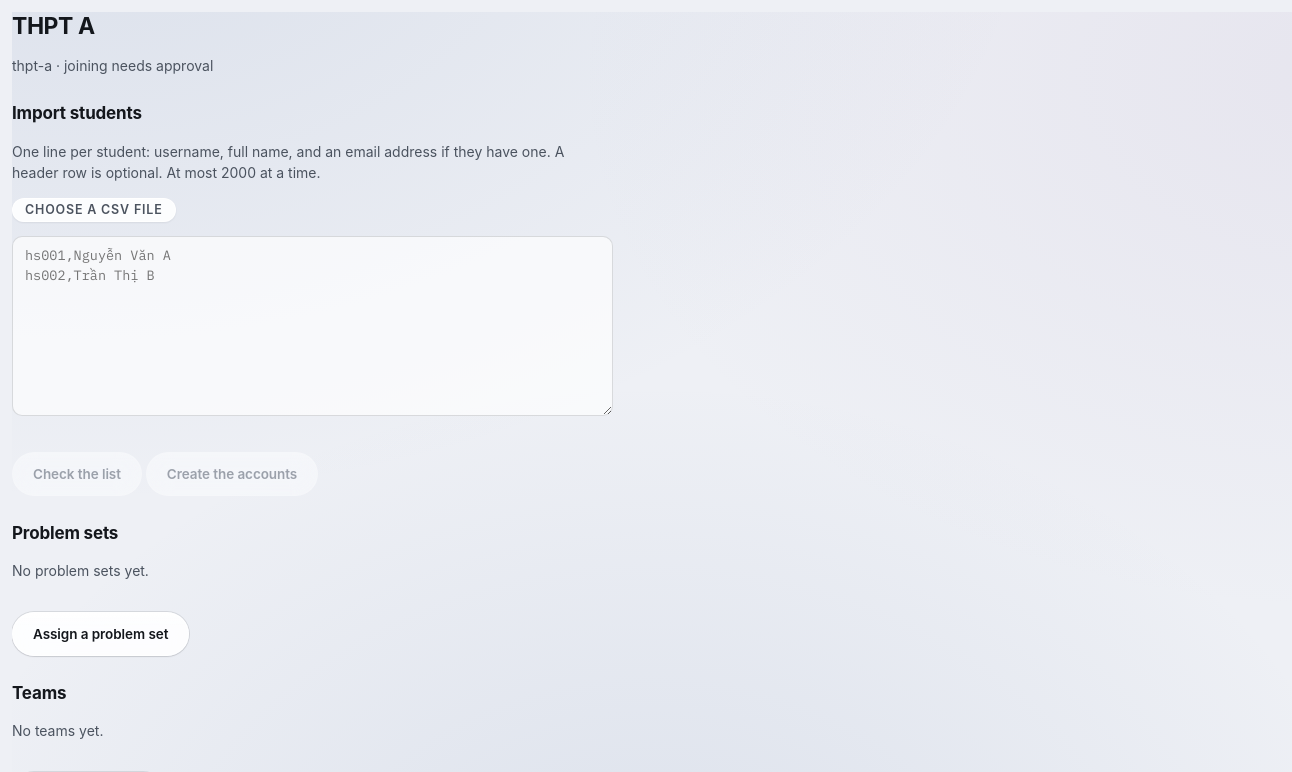
Test: the roster import panel › checks before it creates, and cannot create a list that was never checked
Expected: the heading "Import students" is shown, left=12, top=103, right=142, bottom=123
Expected: the button "Create the accounts" is disabled, left=146, top=452, right=318, bottom=496
Type "hs001,A" into the text box named "Student list" at (312, 326), box left=12, top=236, right=613, bottom=416
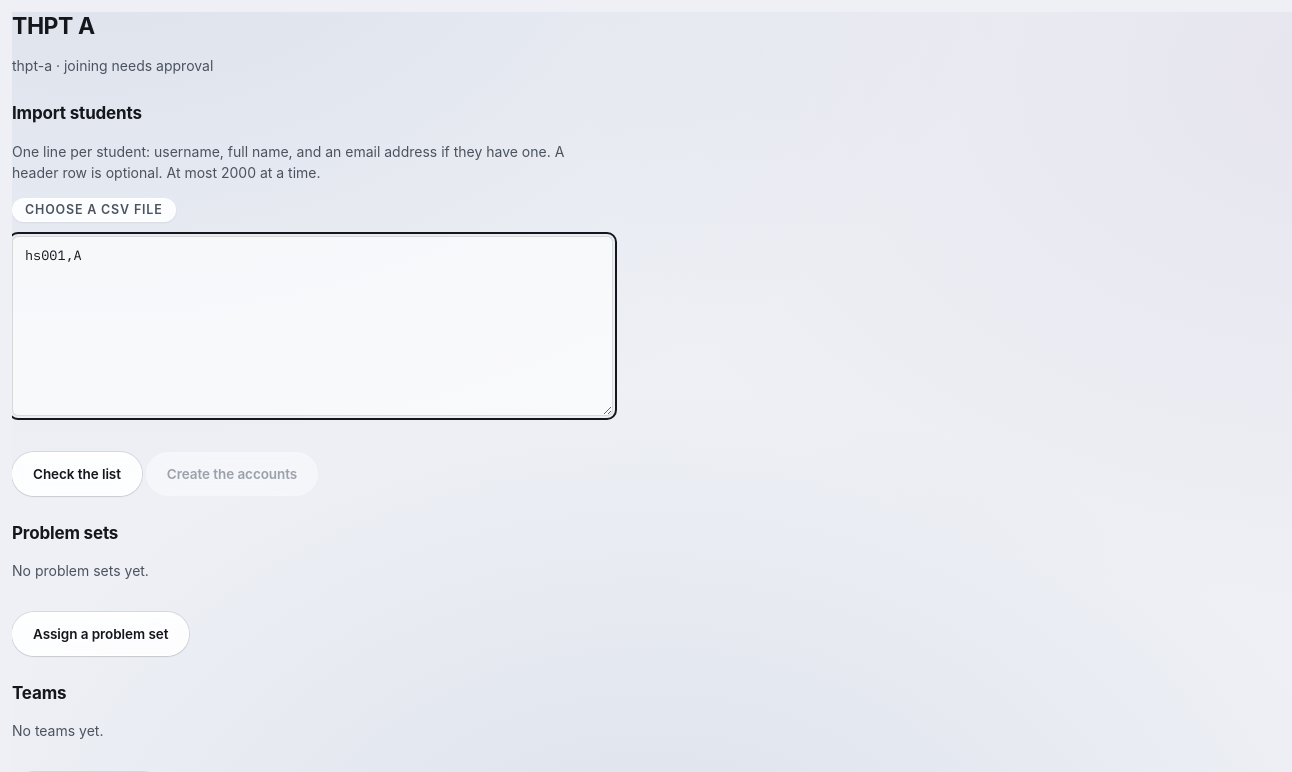
Click the button "Check the list" at (77, 474), box left=12, top=452, right=142, bottom=496
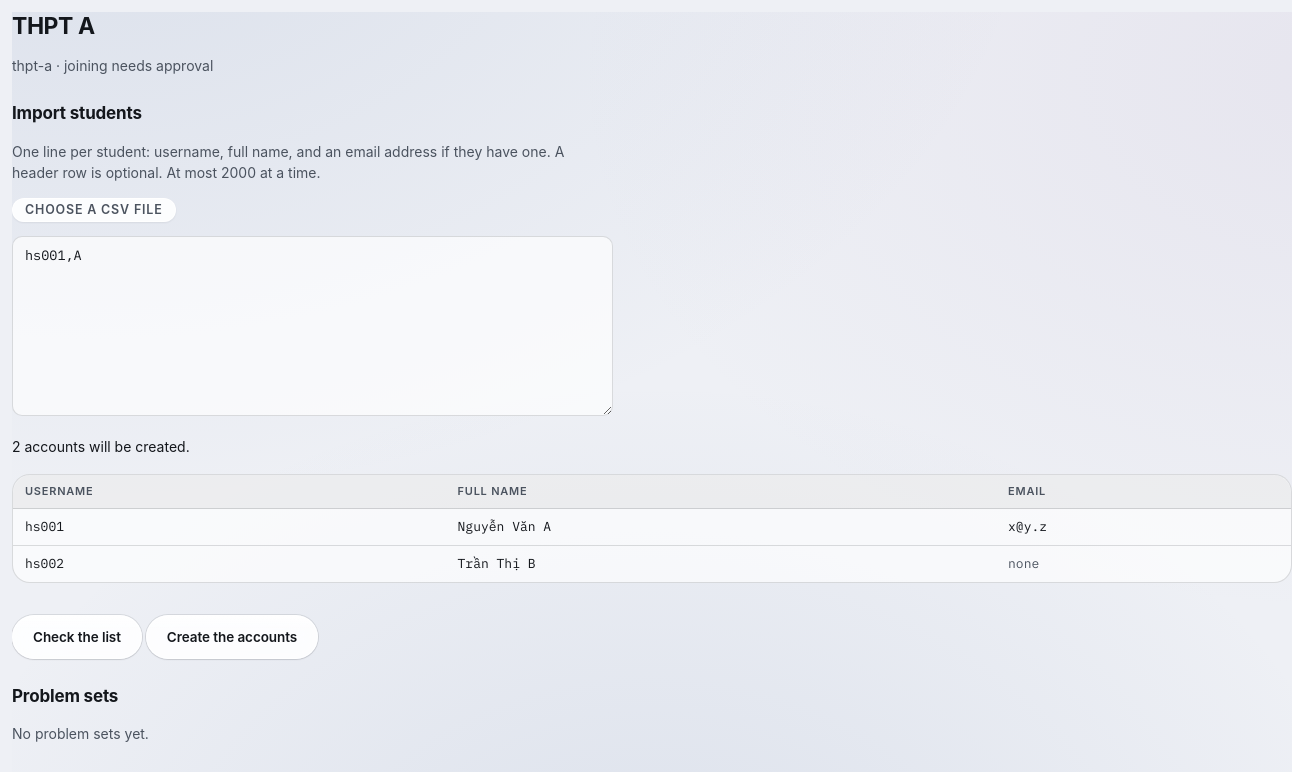
Expected: the text "hs001" is shown, left=13, top=509, right=446, bottom=546
Expected: the text "none" is shown, left=1008, top=555, right=1039, bottom=572
Expected: the button "Create the accounts" is enabled, left=146, top=615, right=318, bottom=659
